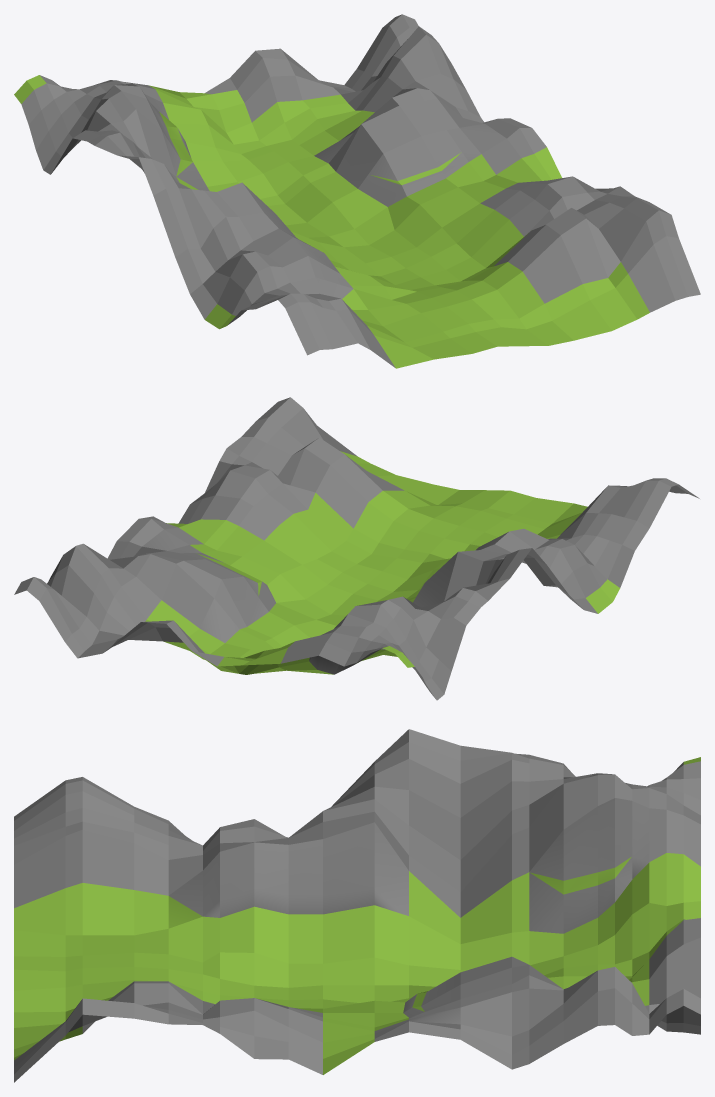
Rendered from model_polytope_landscape.fbx.
The picture shows the model from 3 angles, top to bottom: view 1: azimuth 30°, elevation 25°; view 2: azimuth 150°, elevation 25°; view 3: azimuth 270°, elevation 25°; orthographic projection. The views are drawn at different scales.
Visible parts, largest first — view 1: model_polytope_landscape; view 2: model_polytope_landscape; view 3: model_polytope_landscape.
Part boxes in pixels (bbox=[...]): model_polytope_landscape: bbox=[14, 14, 700, 368]; model_polytope_landscape: bbox=[14, 397, 699, 700]; model_polytope_landscape: bbox=[14, 729, 700, 1082].
Bounding box in the file's own units: 22698 × 7161 × 29288.
